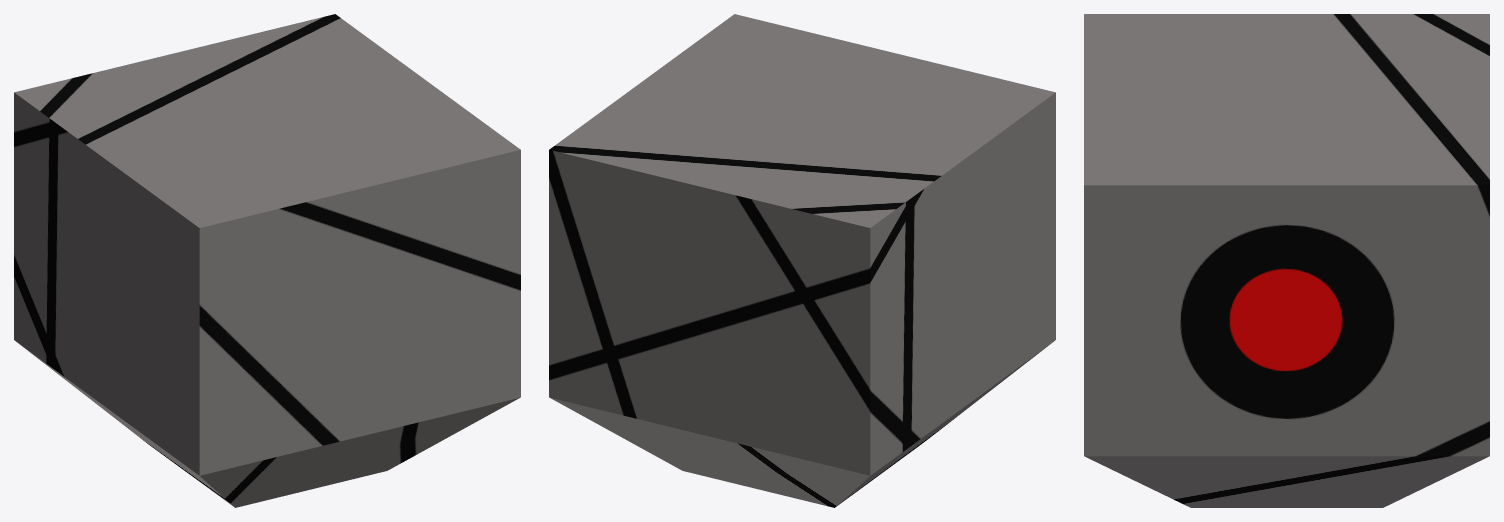
The model's file is float_Head.obj.
The picture shows the model from 3 angles, left to right: view 1: azimuth 30°, elevation 25°; view 2: azimuth 150°, elevation 25°; view 3: azimuth 270°, elevation 25°; orthographic projection. The views are drawn at different scales.
Visible parts, largest first — view 1: 立方体; view 2: 立方体; view 3: 立方体.
Part boxes in pixels (x1,y1,x2,y2): 立方体: (14,14,520,507); 立方体: (549,14,1055,507); 立方体: (1084,14,1489,507).
Bounding box in the file's own units: 2 × 2 × 2.
1 material, 1 textured.
